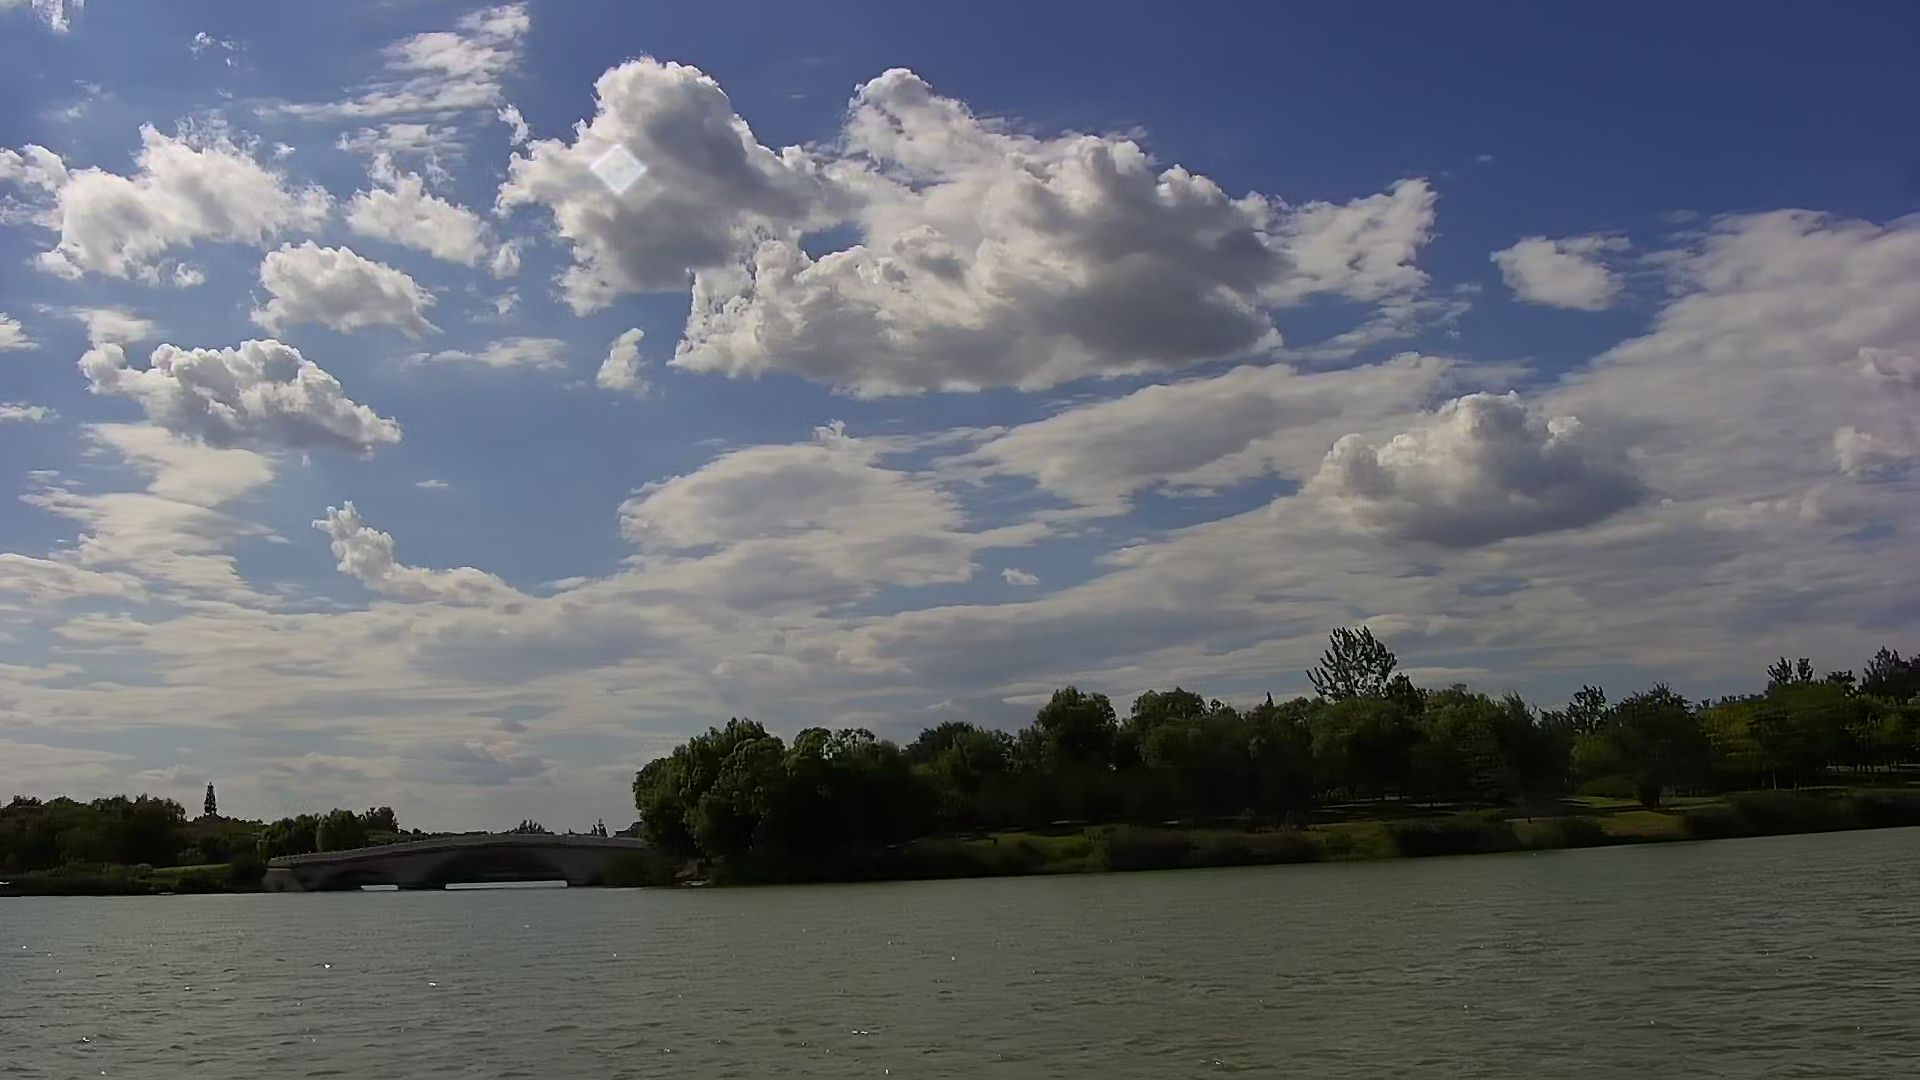bridge: (274, 832, 645, 891)
